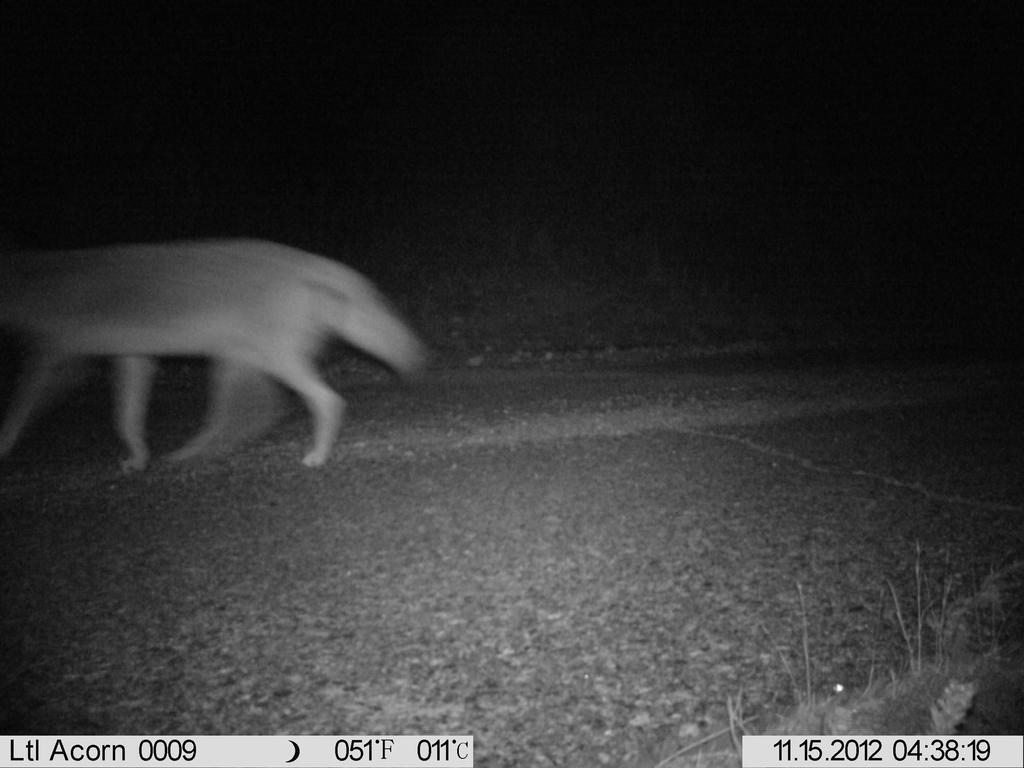coyote: (4, 232, 437, 489)
